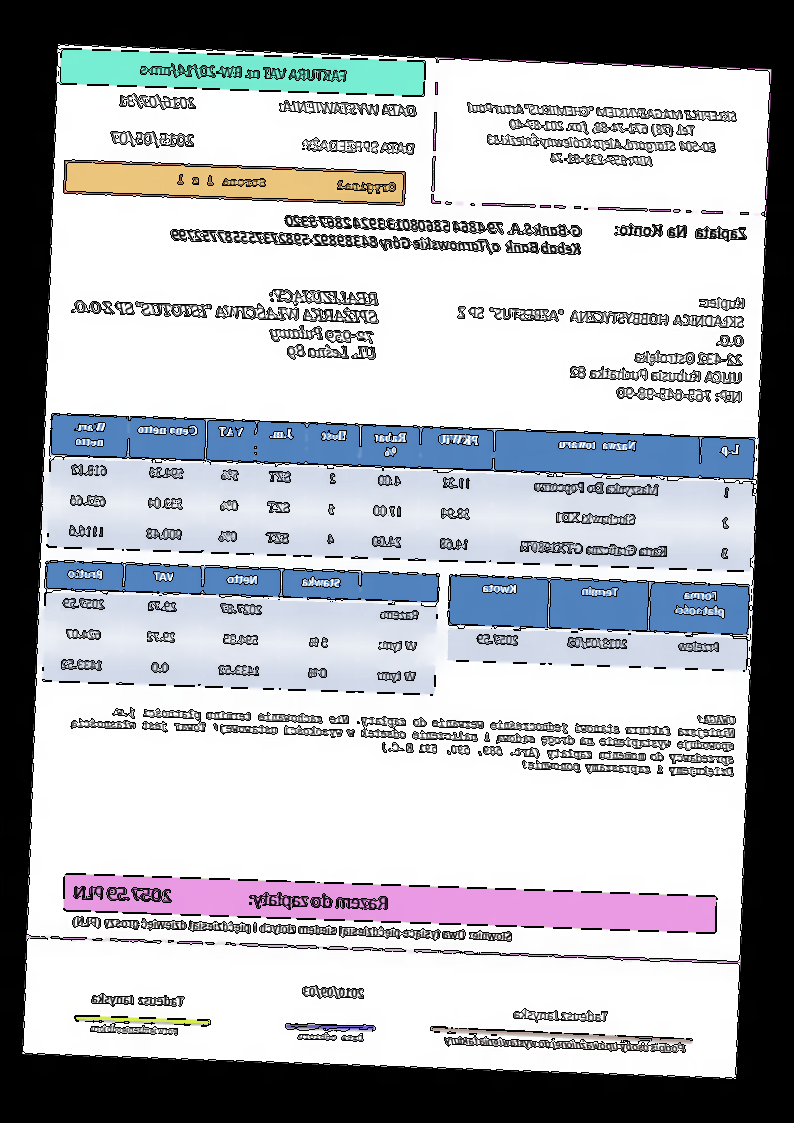Table: (45, 412, 757, 573), (42, 559, 441, 697), (446, 573, 752, 673)
TextBox: (65, 688, 738, 780), (452, 284, 749, 405), (67, 279, 383, 365), (463, 95, 743, 174), (169, 206, 585, 259), (71, 912, 516, 946), (70, 878, 392, 914), (441, 1029, 689, 1057), (138, 56, 350, 88), (173, 170, 399, 197), (277, 95, 419, 120), (614, 219, 749, 243), (300, 133, 418, 159), (107, 127, 199, 152), (88, 988, 186, 1011), (512, 1004, 611, 1025), (117, 90, 200, 112), (89, 1022, 180, 1039), (301, 981, 367, 1001), (296, 1029, 366, 1045)
